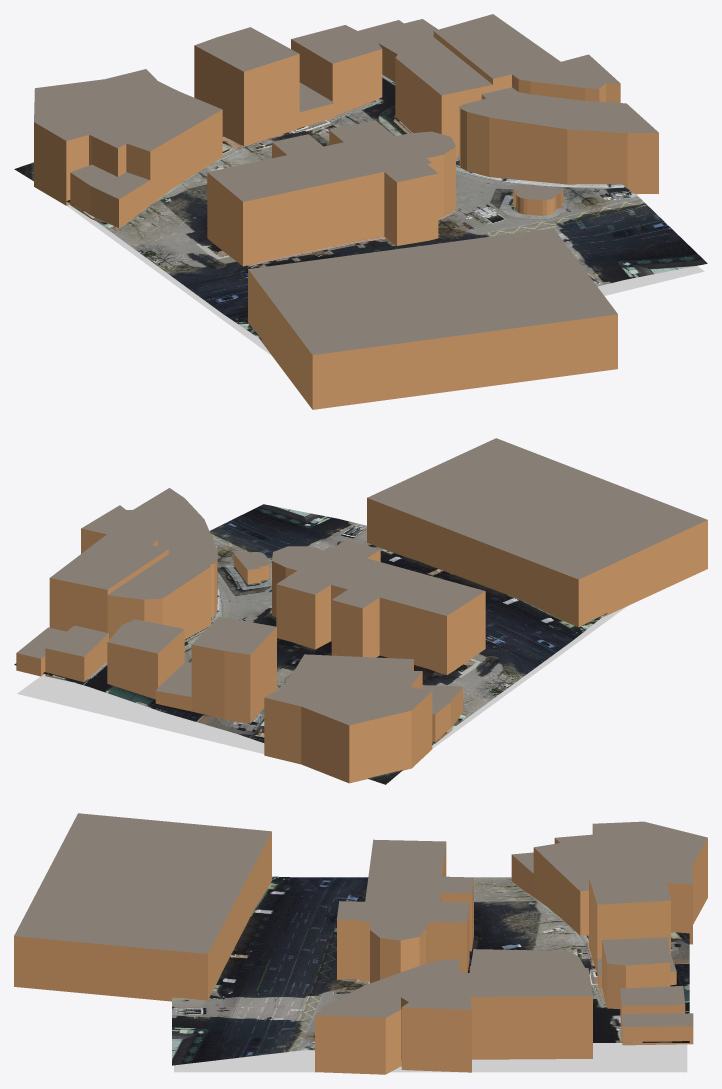
The model's file is st_francois_small_buildings.glb.
The picture shows the model from 3 angles, top to bottom: view 1: azimuth 30°, elevation 25°; view 2: azimuth 150°, elevation 25°; view 3: azimuth 270°, elevation 25°; orthographic projection. The views are drawn at different scales.
Parts seen in each view (by area): view 1: Le Kiosque, Terrain, Terrain_envelope; view 2: Le Kiosque, Terrain, Terrain_envelope; view 3: Le Kiosque, Terrain, Terrain_envelope.
Boxes of the visible parts, left/top/right/bottom form: Le Kiosque: left=34, top=14, right=658, bottom=409; Terrain: left=14, top=75, right=707, bottom=340; Terrain_envelope: left=32, top=180, right=704, bottom=355; Le Kiosque: left=16, top=438, right=707, bottom=783; Terrain: left=14, top=504, right=607, bottom=784; Terrain_envelope: left=17, top=606, right=627, bottom=780; Le Kiosque: left=14, top=813, right=707, bottom=1074; Terrain: left=172, top=876, right=689, bottom=1065; Terrain_envelope: left=174, top=1043, right=687, bottom=1072.
Bounding box in the file's own units: 125 × 23.02 × 166.
3 materials, 1 textured.
